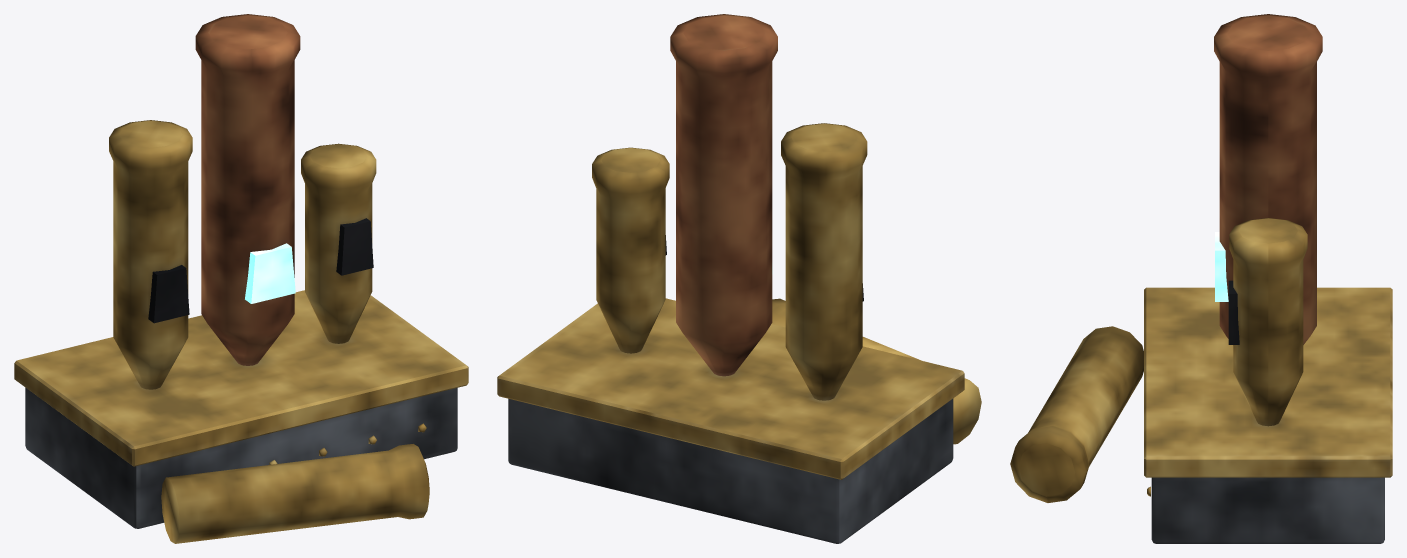
Rendered from ClockLung_Prop_C.fbx.
3 views of the same model, side by side, from view 1: azimuth 30°, elevation 25°; view 2: azimuth 150°, elevation 25°; view 3: azimuth 270°, elevation 25° (orthographic). The views are drawn at different scales.
Visible parts, largest first — view 1: ClockLung_Prop_C; view 2: ClockLung_Prop_C; view 3: ClockLung_Prop_C.
Part boxes in pixels (left/top/right/bottom): ClockLung_Prop_C: left=14, top=14, right=468, bottom=543; ClockLung_Prop_C: left=497, top=14, right=981, bottom=543; ClockLung_Prop_C: left=1010, top=14, right=1392, bottom=543.
Bounding box in the file's own units: 0.9977 × 1.19 × 0.944.
